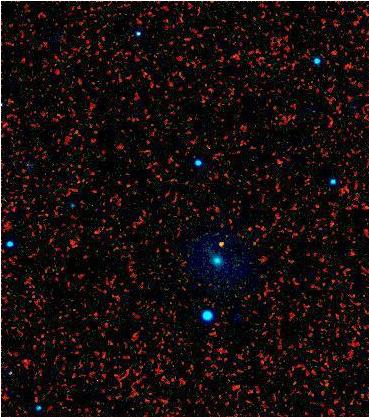star: (207, 226, 237, 256)
